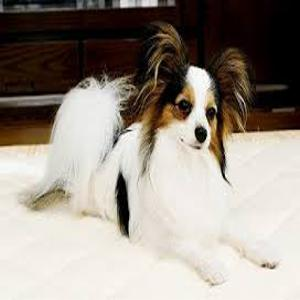yell: (14, 24, 280, 286)
